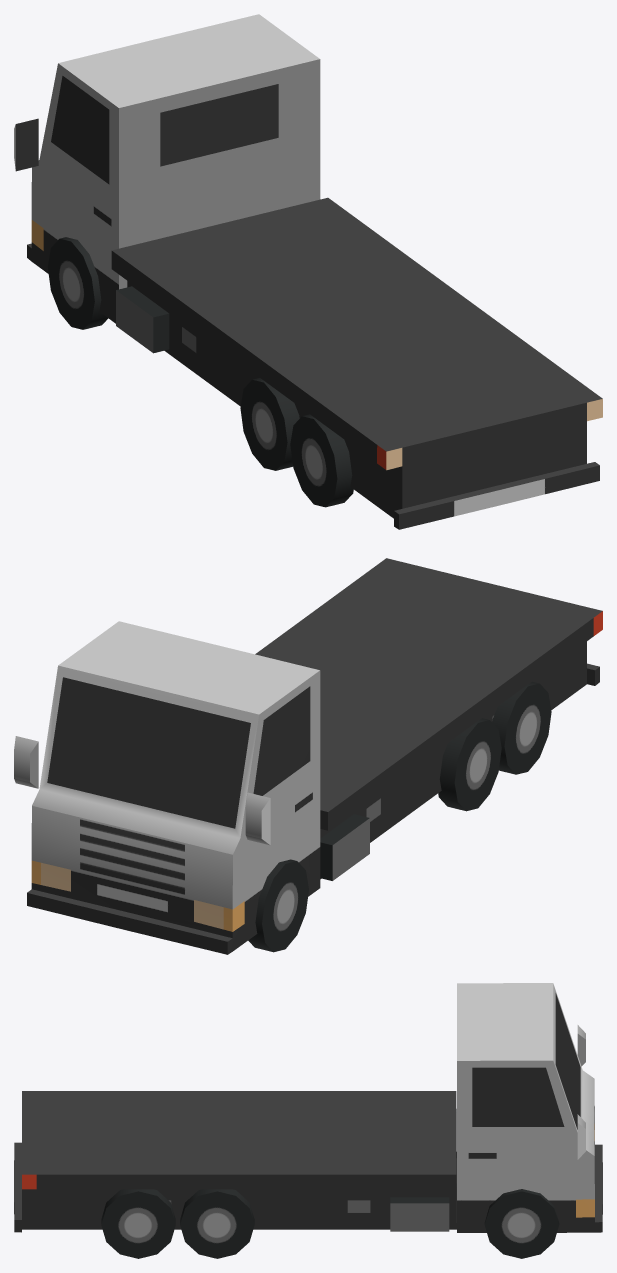
File: regular_truck_mesh.fbx
3 renders of one model, top to bottom at view 1: azimuth 30°, elevation 25°; view 2: azimuth 150°, elevation 25°; view 3: azimuth 270°, elevation 25°, orthographic. The views are drawn at different scales.
Visible parts, largest first — view 1: regular_truck_mesh; view 2: regular_truck_mesh; view 3: regular_truck_mesh.
Part boxes in pixels (x1=…): regular_truck_mesh: x1=14, y1=14, x2=602, y2=529; regular_truck_mesh: x1=14, y1=558, x2=602, y2=954; regular_truck_mesh: x1=14, y1=983, x2=602, y2=1258.
Bounding box in the file's own units: 3.44 × 3.2 × 8.72.
1 material, 1 textured.
